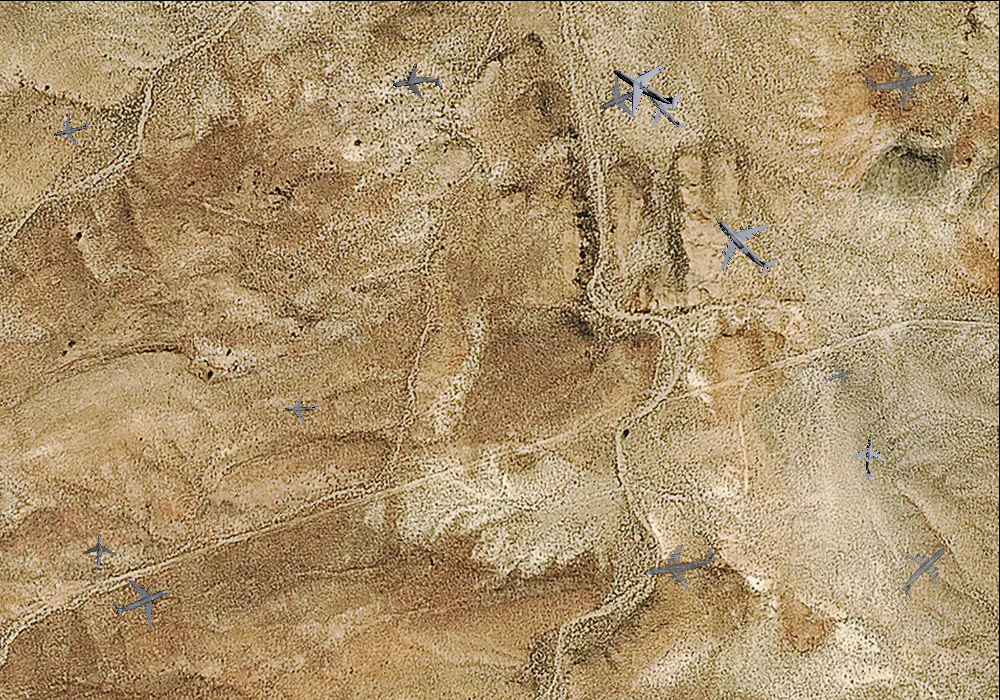plane: (693, 193, 794, 295), (598, 38, 695, 134), (883, 530, 965, 612), (858, 42, 941, 117), (641, 527, 722, 599), (103, 564, 178, 637), (590, 64, 656, 129), (634, 79, 698, 143), (389, 56, 445, 108), (48, 106, 94, 151), (848, 435, 891, 479), (820, 357, 858, 394), (79, 533, 116, 571), (283, 391, 318, 424)
